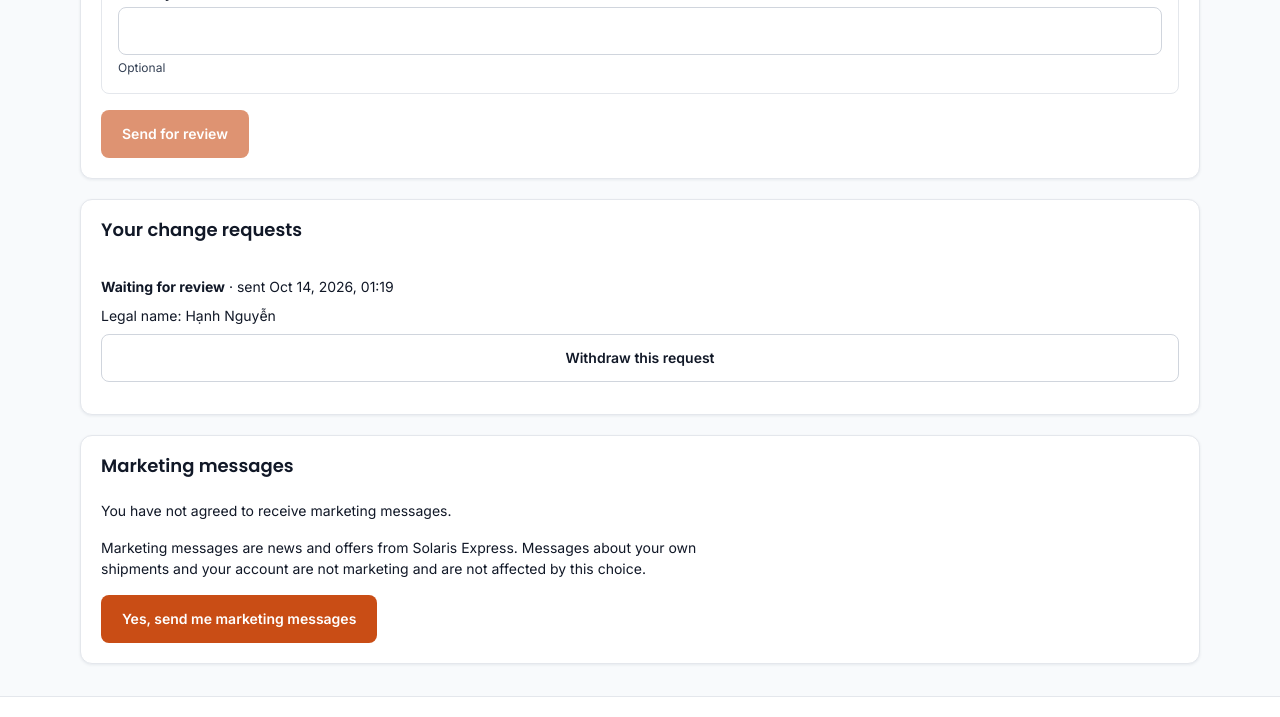
Test: My profile › lists each request with its state and lets a pending one be withdrawn
(page scrolled)
Expected: the text "Waiting for review" is shown, x1=101 y1=278 x2=225 y2=295
Expected: the text "Waiting for review · sent Oct 14, 2026, 01:19" is shown, x1=101 y1=278 x2=394 y2=295
Click the button "Withdraw this request": (640, 358) x1=101 y1=334 x2=1179 y2=382
(page scrolled)
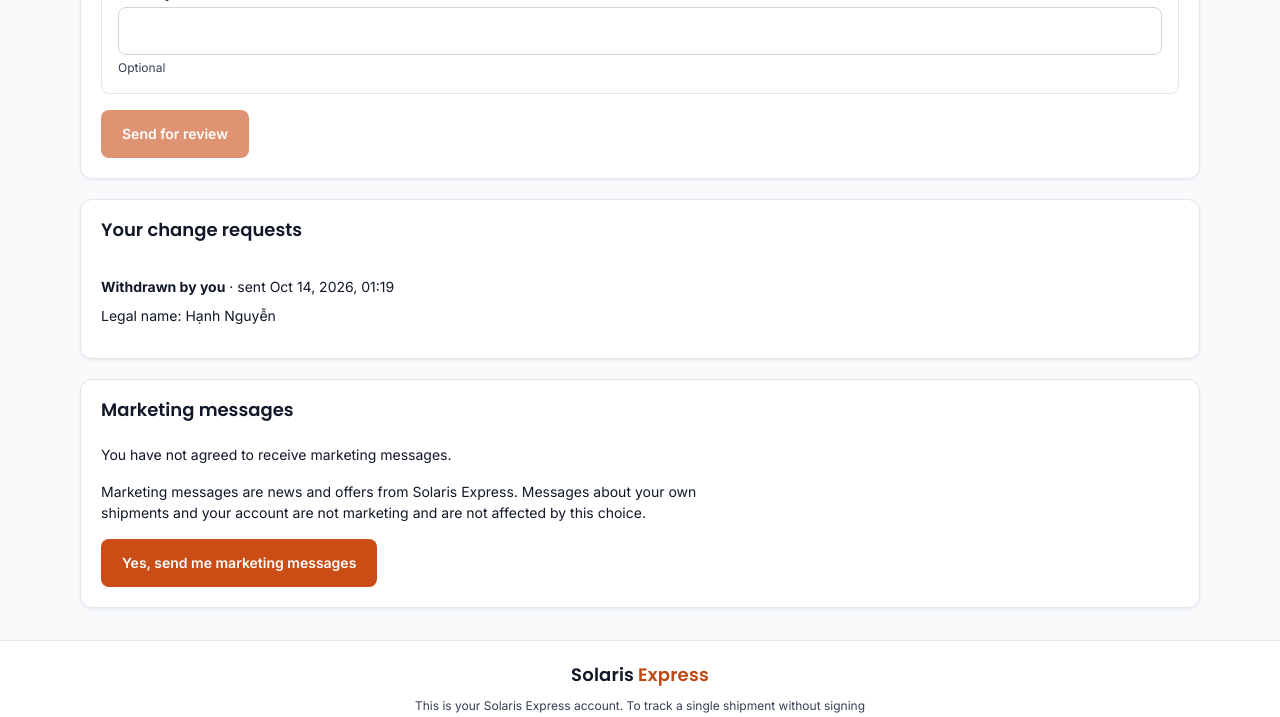
Expected: the text "Withdrawn by you" is shown, x1=101 y1=278 x2=225 y2=295
